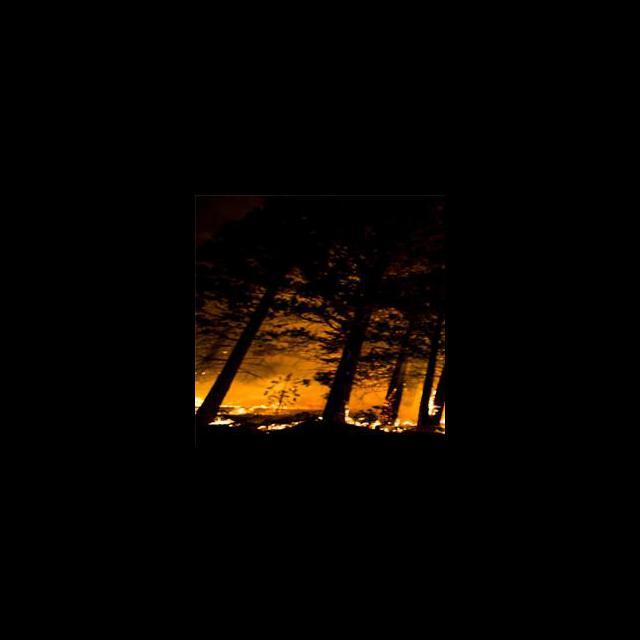Fire: (196, 387, 445, 435)
